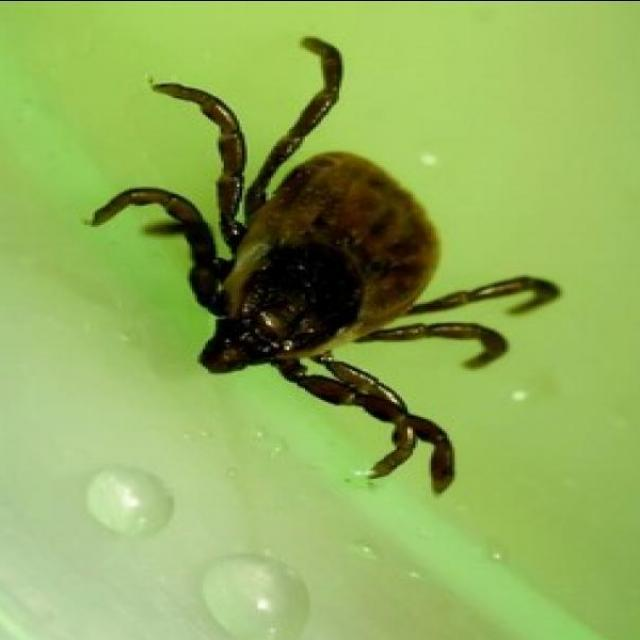Rhipicephalus Sanguineus-F: (85, 37, 562, 497)
